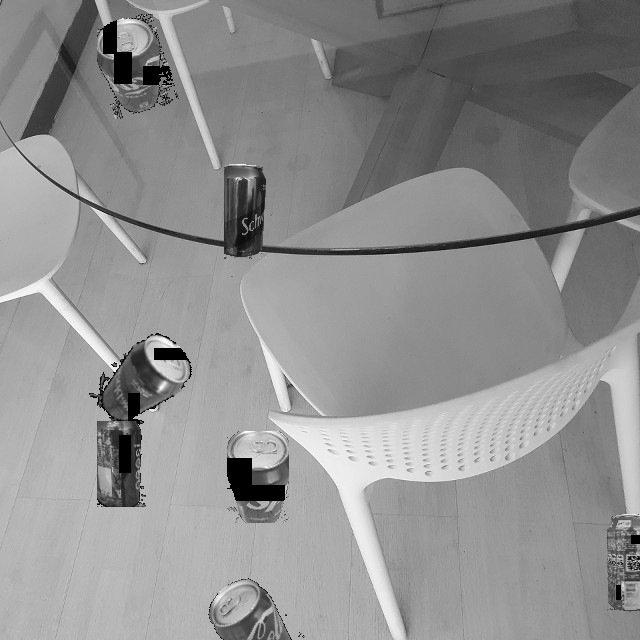coca cola: (97, 14, 179, 119), (198, 568, 309, 640)
pepsi: (97, 421, 146, 507)
schweppes: (79, 320, 206, 439), (224, 164, 266, 259)
sprite: (227, 431, 289, 523), (606, 514, 640, 612)
